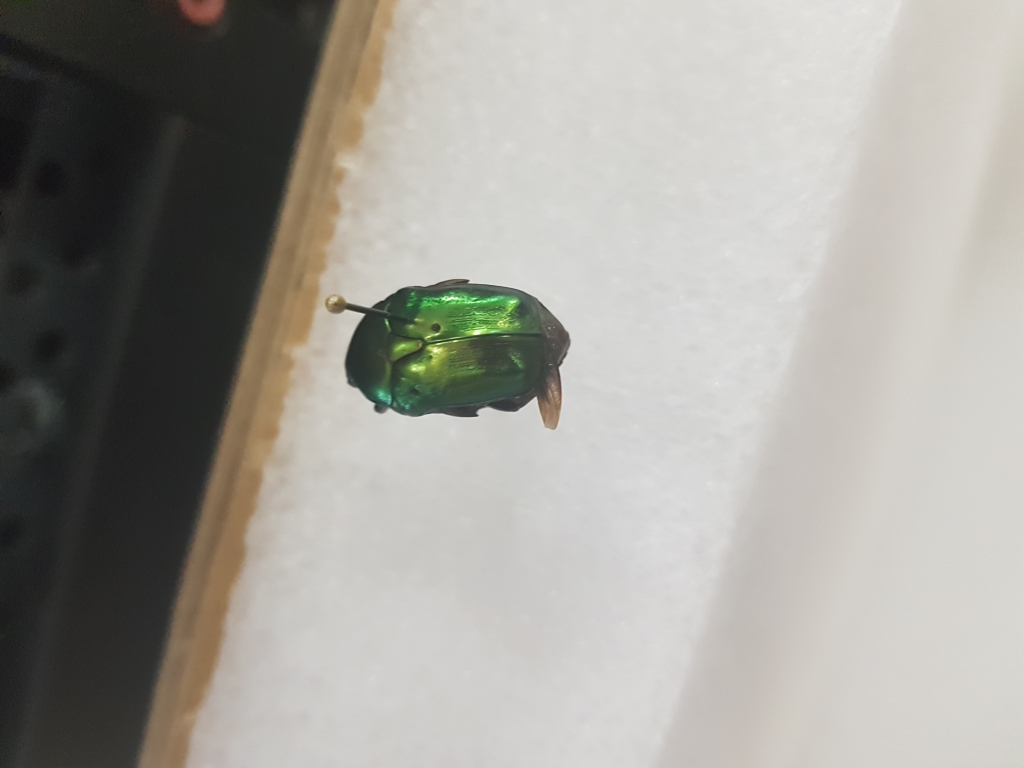Protaetia_cuprea_ignicollis: (342, 273, 575, 417)
